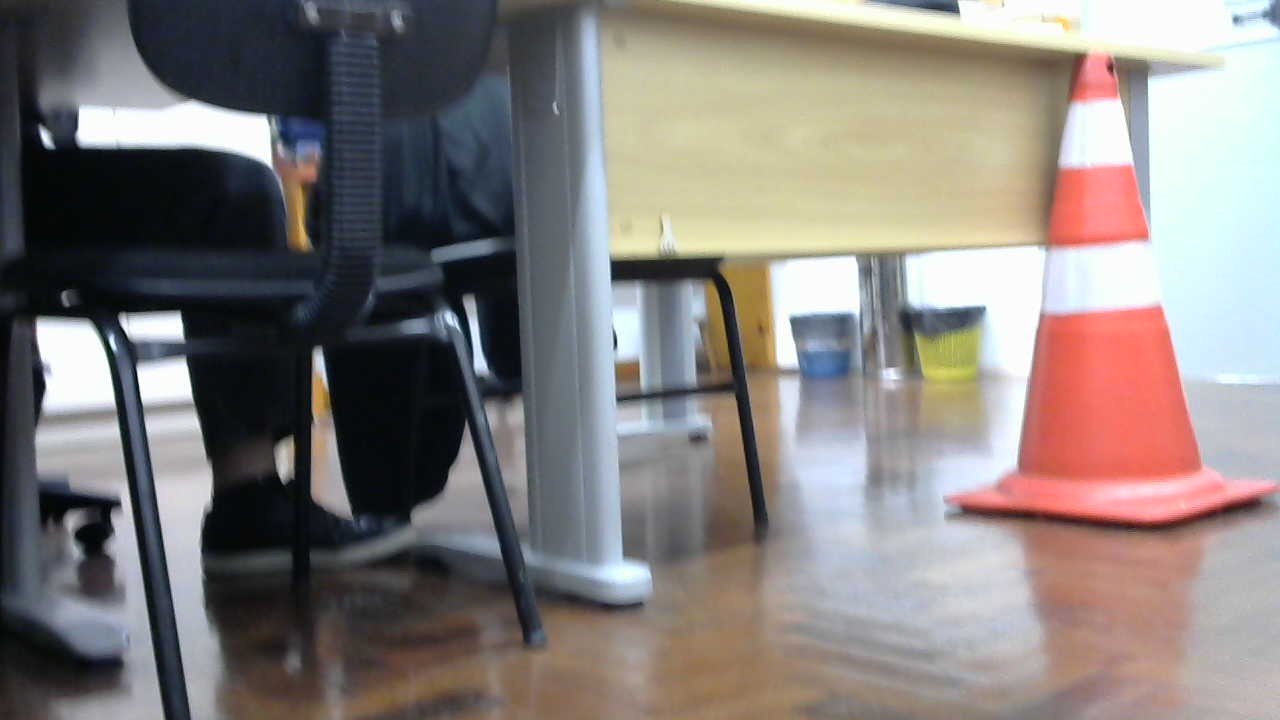cone: (963, 43, 1267, 526)
